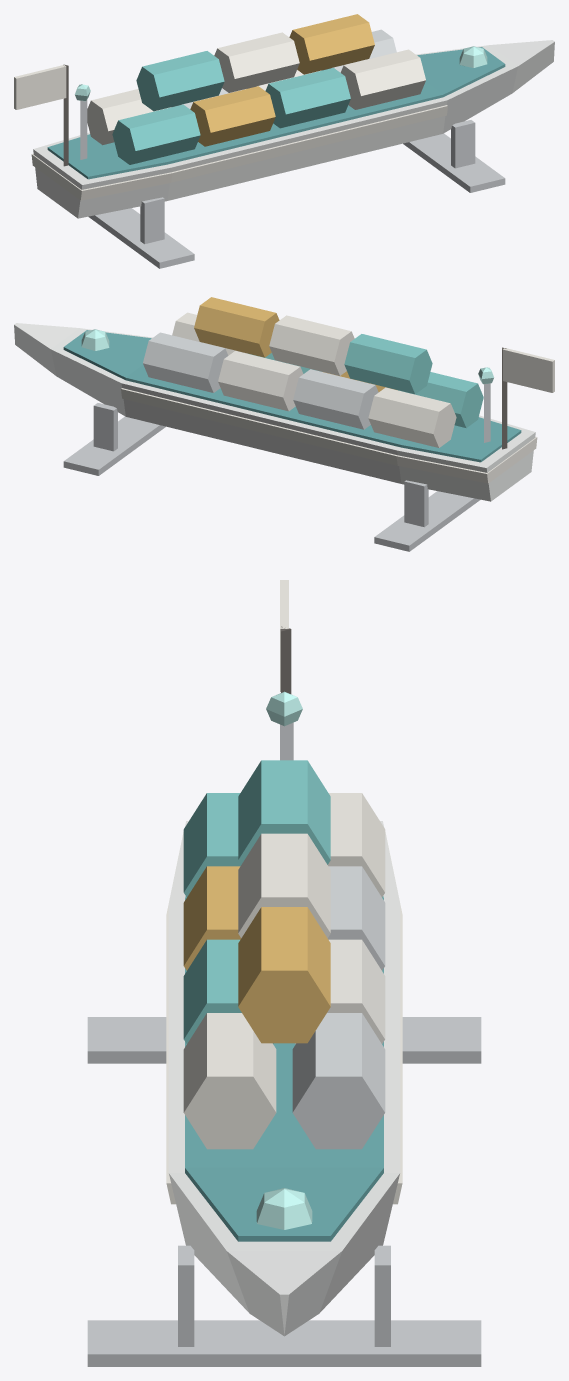
The model's file is trader.glb.
The picture shows the model from 3 angles, top to bottom: view 1: azimuth 30°, elevation 25°; view 2: azimuth 150°, elevation 25°; view 3: azimuth 270°, elevation 25°; orthographic projection. The views are drawn at different scales.
Parts seen in each view (by area): view 1: future_trader; view 2: future_trader; view 3: future_trader.
Part boxes in pixels (box(x1,y1,x2,y2)): future_trader: box(14, 14, 554, 268); future_trader: box(14, 297, 554, 551); future_trader: box(87, 580, 481, 1366).
Size of the model in its own units: 0.9995 by 0.3161 by 0.3161.
